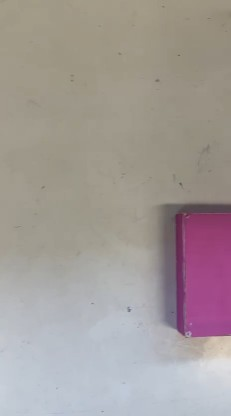pink: (189, 214, 226, 337)
